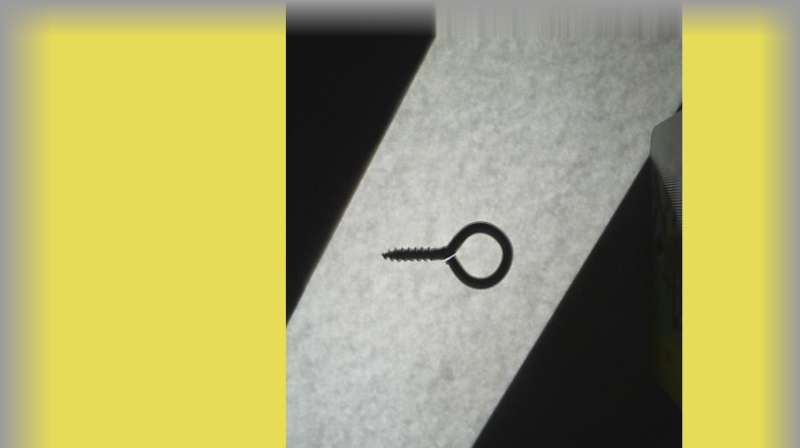O001: (378, 214, 516, 291)
